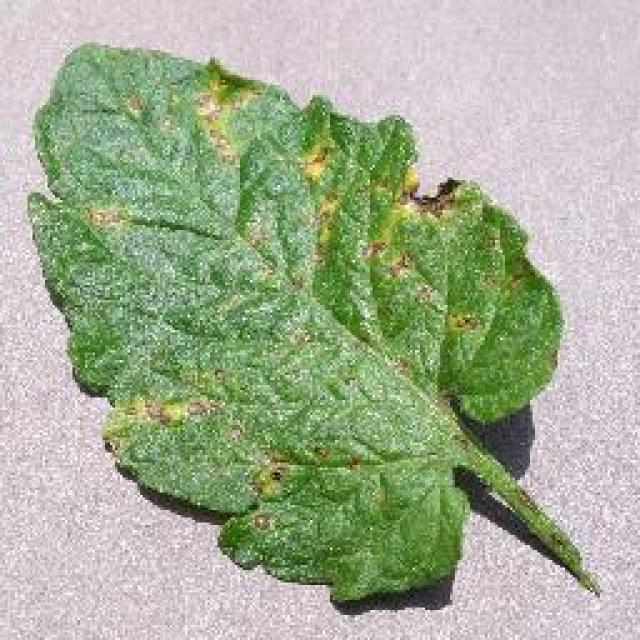Tomato Septoria spot leaf: (29, 43, 564, 605)
